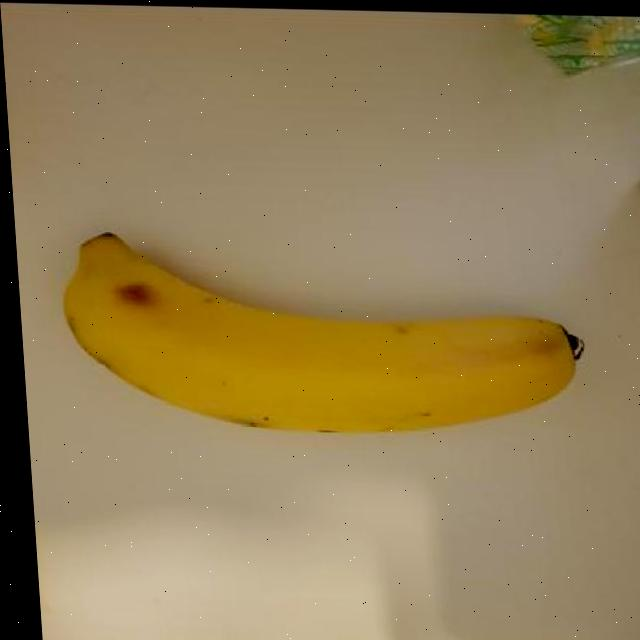banana: (43, 227, 599, 444)
